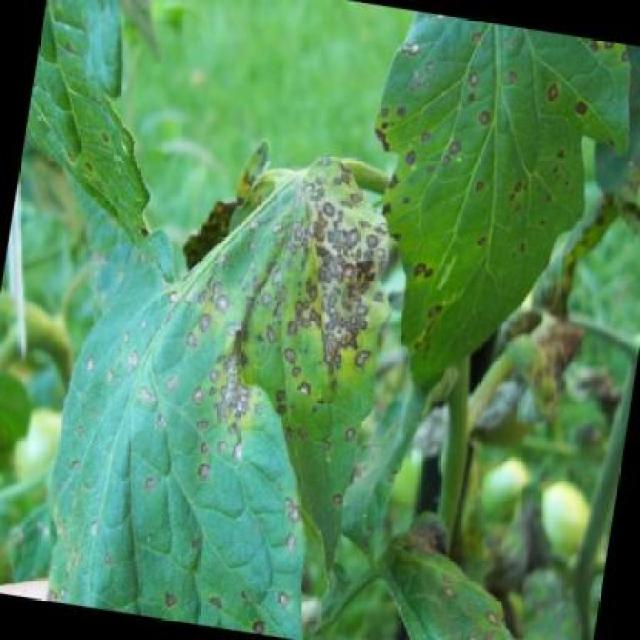Septoria leaf spot: (33, 117, 404, 640), (336, 9, 640, 429)
